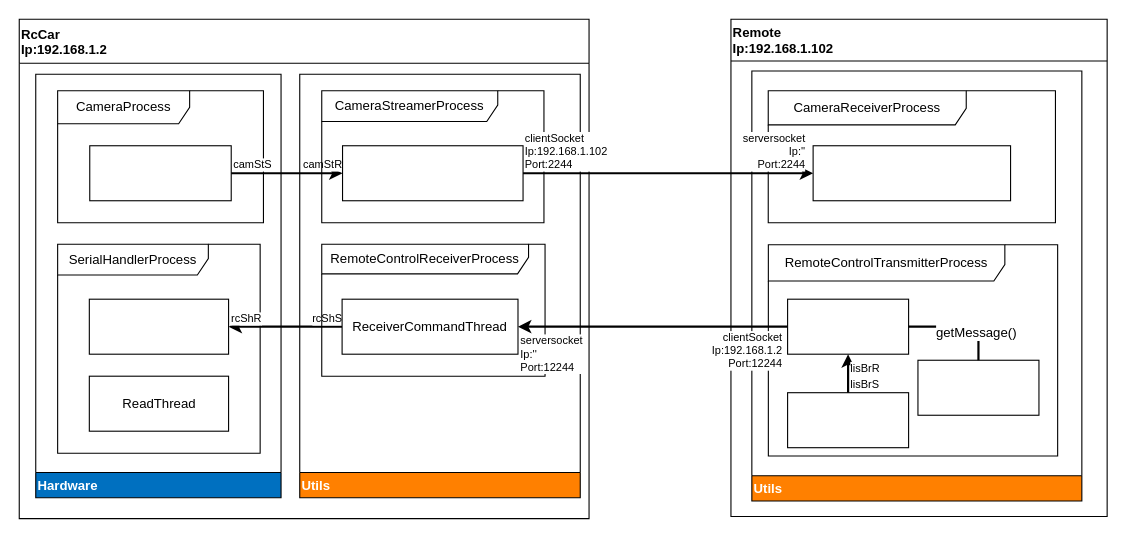
The diagram is 1126 pixels wide and 538 high, and some of its shapes have lost their labels. The centre of each missing label's shape, as x and y in pixels:
"CameraThread" goes at pixel 160 173.
"KeyboardListener Thread" goes at pixel 848 420.
"RcBrainThread" goes at pixel 978 387.
"SendCommand Thread" goes at pixel 848 326.
"StreamReceivingThread" goes at pixel 911 173.
"StreamSendingThread" goes at pixel 432 173.
"WriteThread" goes at pixel 158 326.
